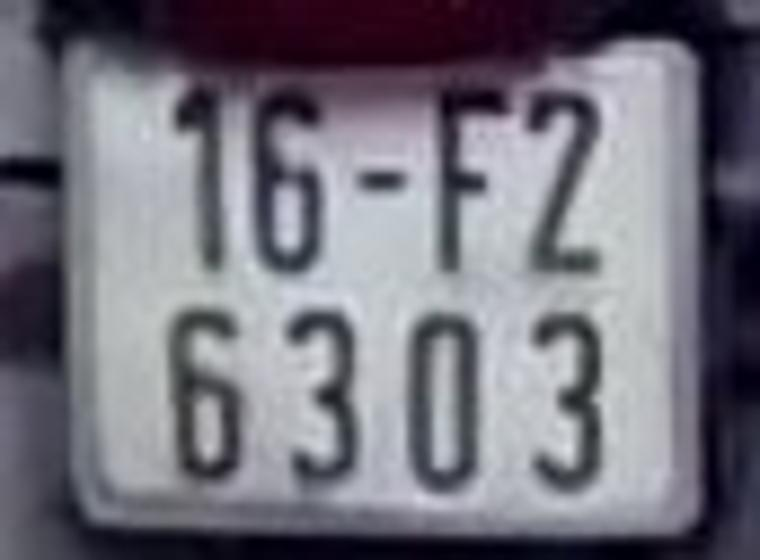-: (352, 158, 412, 202)
0: (397, 311, 483, 499)
1: (170, 85, 238, 286)
2: (522, 81, 614, 284)
3: (526, 309, 608, 502), (281, 301, 363, 493)
6: (163, 299, 252, 492), (251, 86, 336, 277)
F: (428, 80, 518, 282)
